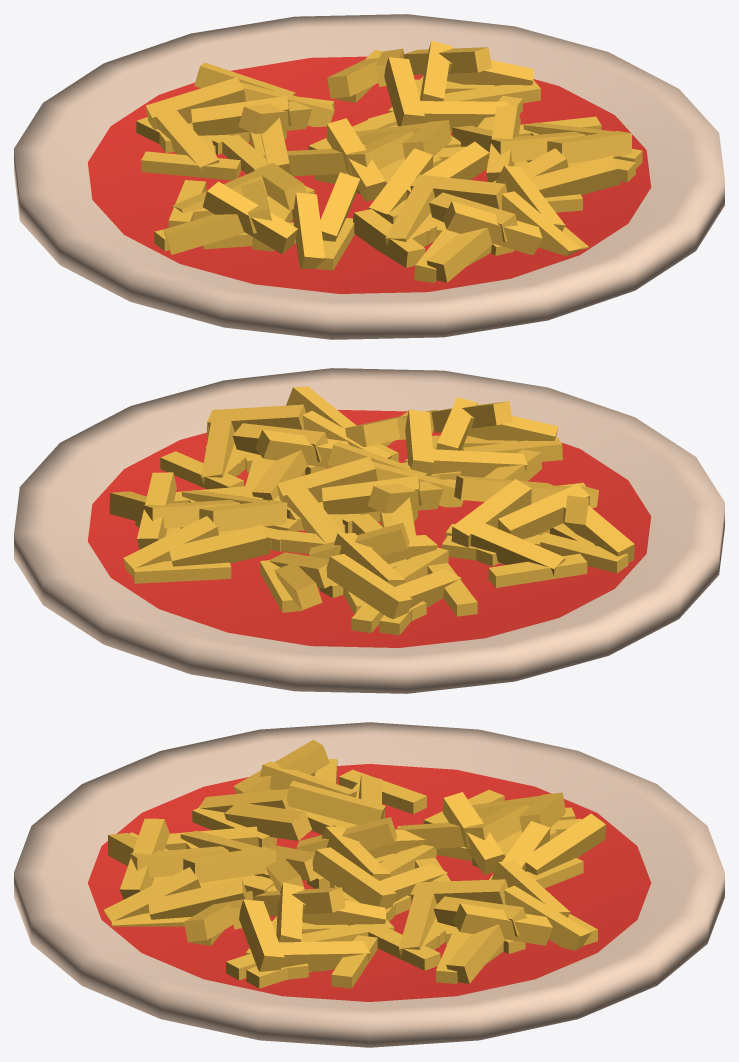
The model's file is RawPizza(With Tomato and Cheese).glb.
3 views of the same model, one above another, from view 1: azimuth 30°, elevation 25°; view 2: azimuth 150°, elevation 25°; view 3: azimuth 270°, elevation 25° (orthographic).
Visible parts, largest first — view 1: Cube.146; view 2: Cube.146; view 3: Cube.146.
Part boxes in pixels (x1,y1,x2,y2): Cube.146: (14,14,724,339); Cube.146: (14,368,724,693); Cube.146: (14,722,724,1047).
Size of the model in its own units: 0.8833 by 0.0988 by 0.8833.
